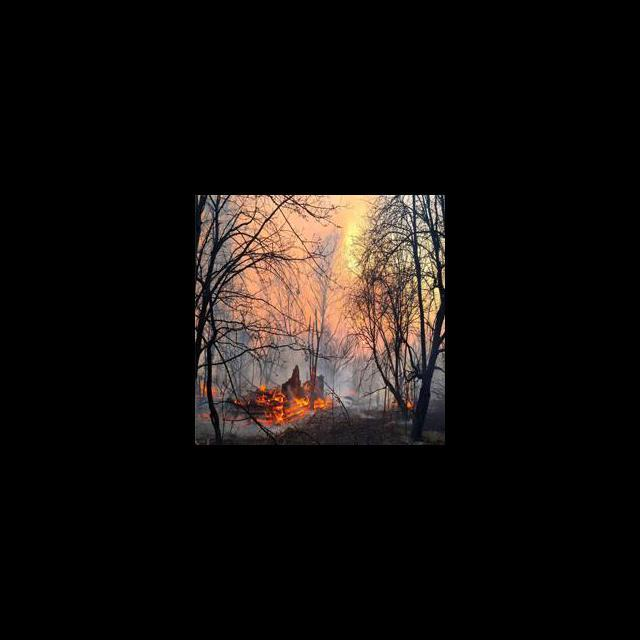Fire: (228, 376, 336, 432)
Smoke: (213, 318, 336, 373), (338, 353, 386, 416)
